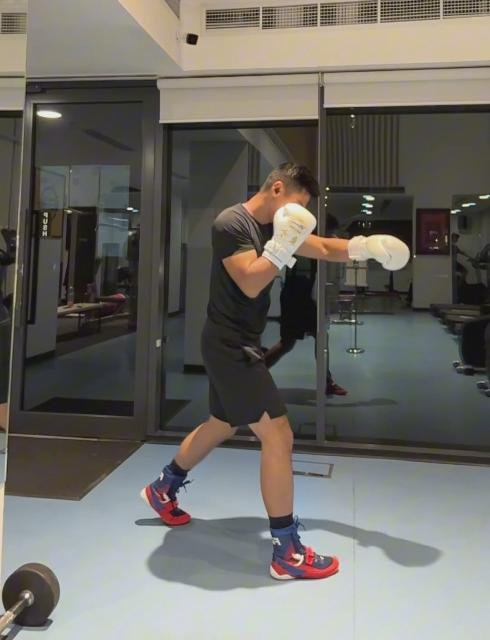punch: (137, 160, 412, 582)
